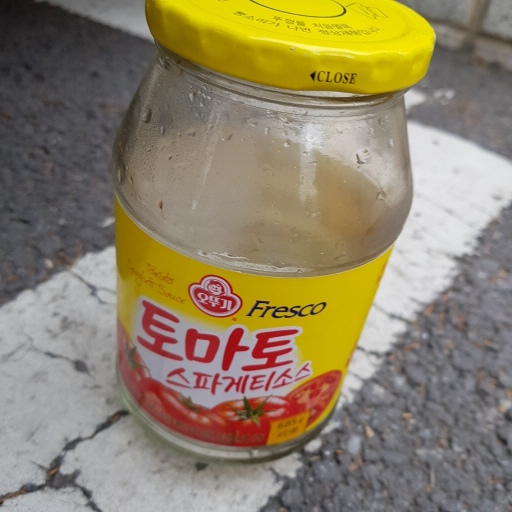Glass_5: (102, 1, 437, 471)
